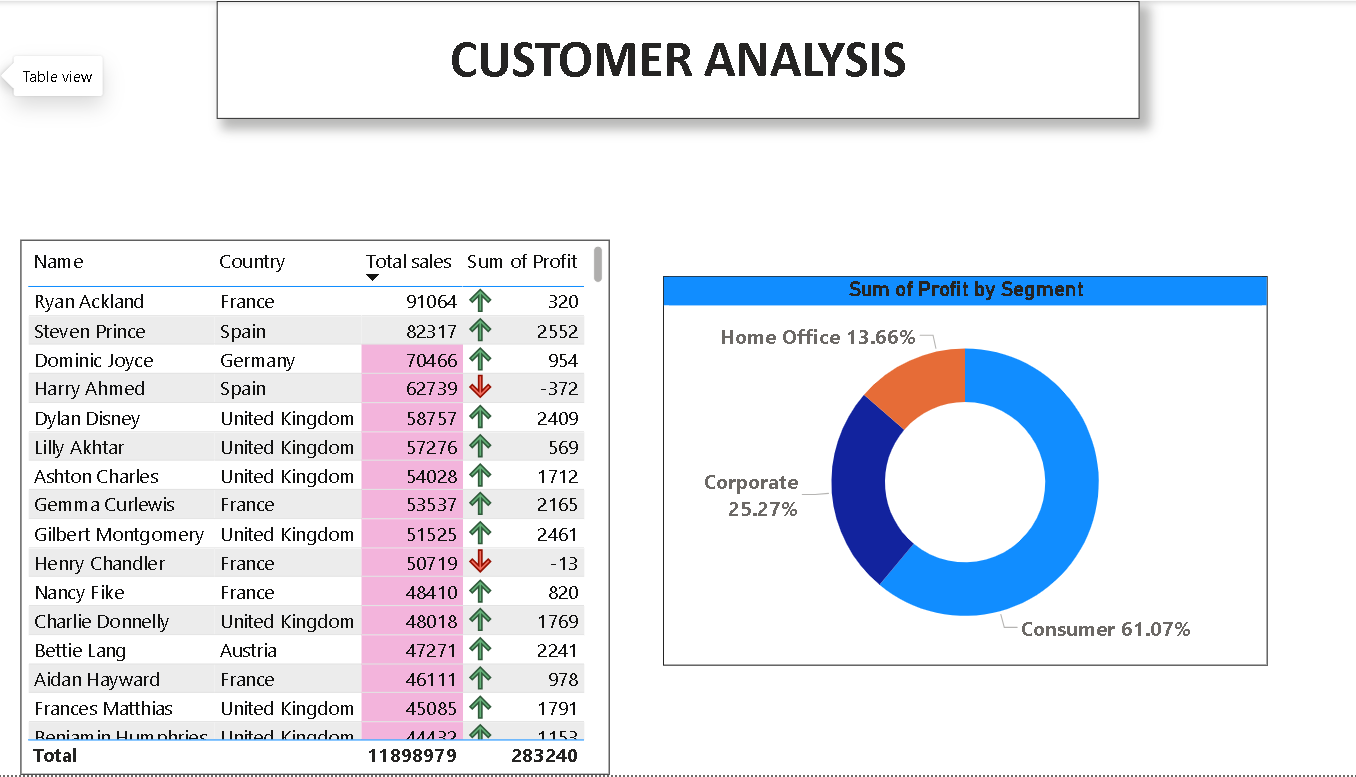

This screenshot's page, from the dashboard's own definition file:
{"tool":"powerbi","page":{"name":"Customer analysis","canvas":[1280,720],"ordinal":3},"visuals":[{"type":"textbox","box":[203.5,0,858.1,109.3],"z":0},{"type":"donutChart","fields":{"Y":["Sales.Profit"],"Category":["Customers.Segment"]},"box":[618.6,255.8,562.8,362.8],"z":1000},{"type":"tableEx","fields":{"Values":["Customers.Name","Sales.Country","Sales.Total sales","Sales.Profit"]},"box":[20.9,222.1,547.7,497.7],"z":2000}]}

Visuals, with their boxes in screenshot pixels (x1, y1, x2, y2), scaled from the page's 1280x720 canvas onto the 1356x777 screenshot:
textbox: <bbox>216, 0, 1125, 118</bbox>
donutChart - Sales.Profit x Customers.Segment: <bbox>655, 276, 1252, 668</bbox>
tableEx - Customers.Name x Sales.Country: <bbox>22, 240, 602, 776</bbox>
